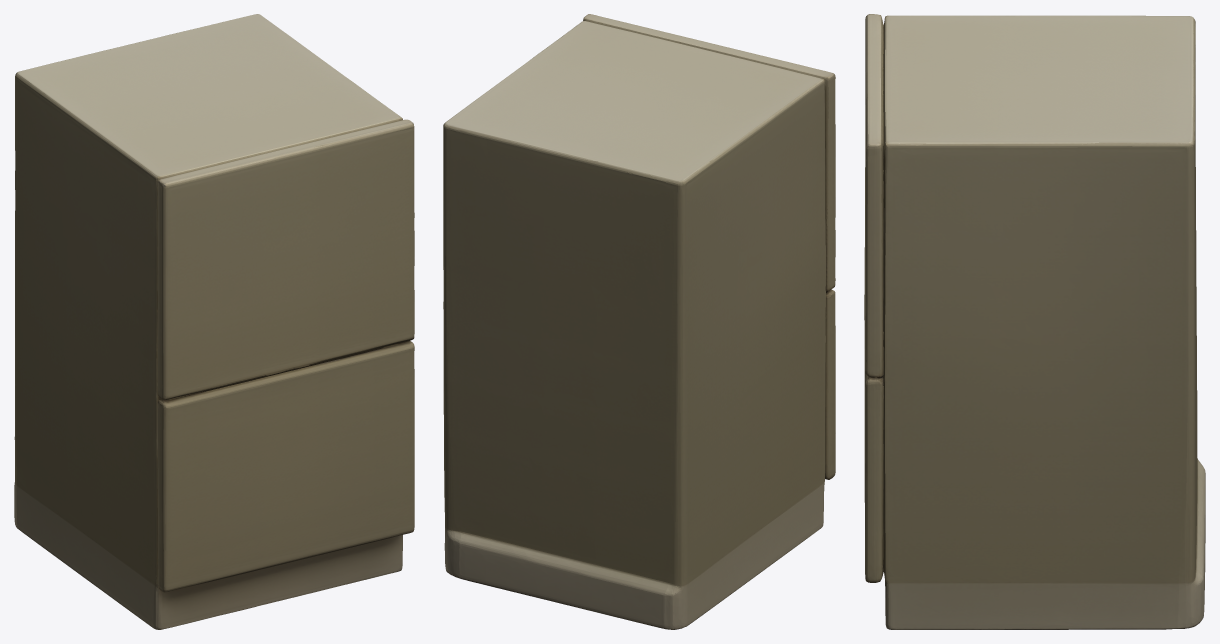
3 views of the same model, side by side, from view 1: azimuth 30°, elevation 25°; view 2: azimuth 150°, elevation 25°; view 3: azimuth 270°, elevation 25° (orthographic). The views are drawn at different scales.
Visible parts, largest first — view 1: world; view 2: world; view 3: world.
Boxes of the visible parts, x1,y1,x2,y2 form: world: [14, 14, 414, 629]; world: [443, 14, 835, 629]; world: [864, 14, 1205, 629].
Bounding box in the file's own units: 0.5814 × 1 × 0.6365.
Materials: 1 (1 with a texture image).
